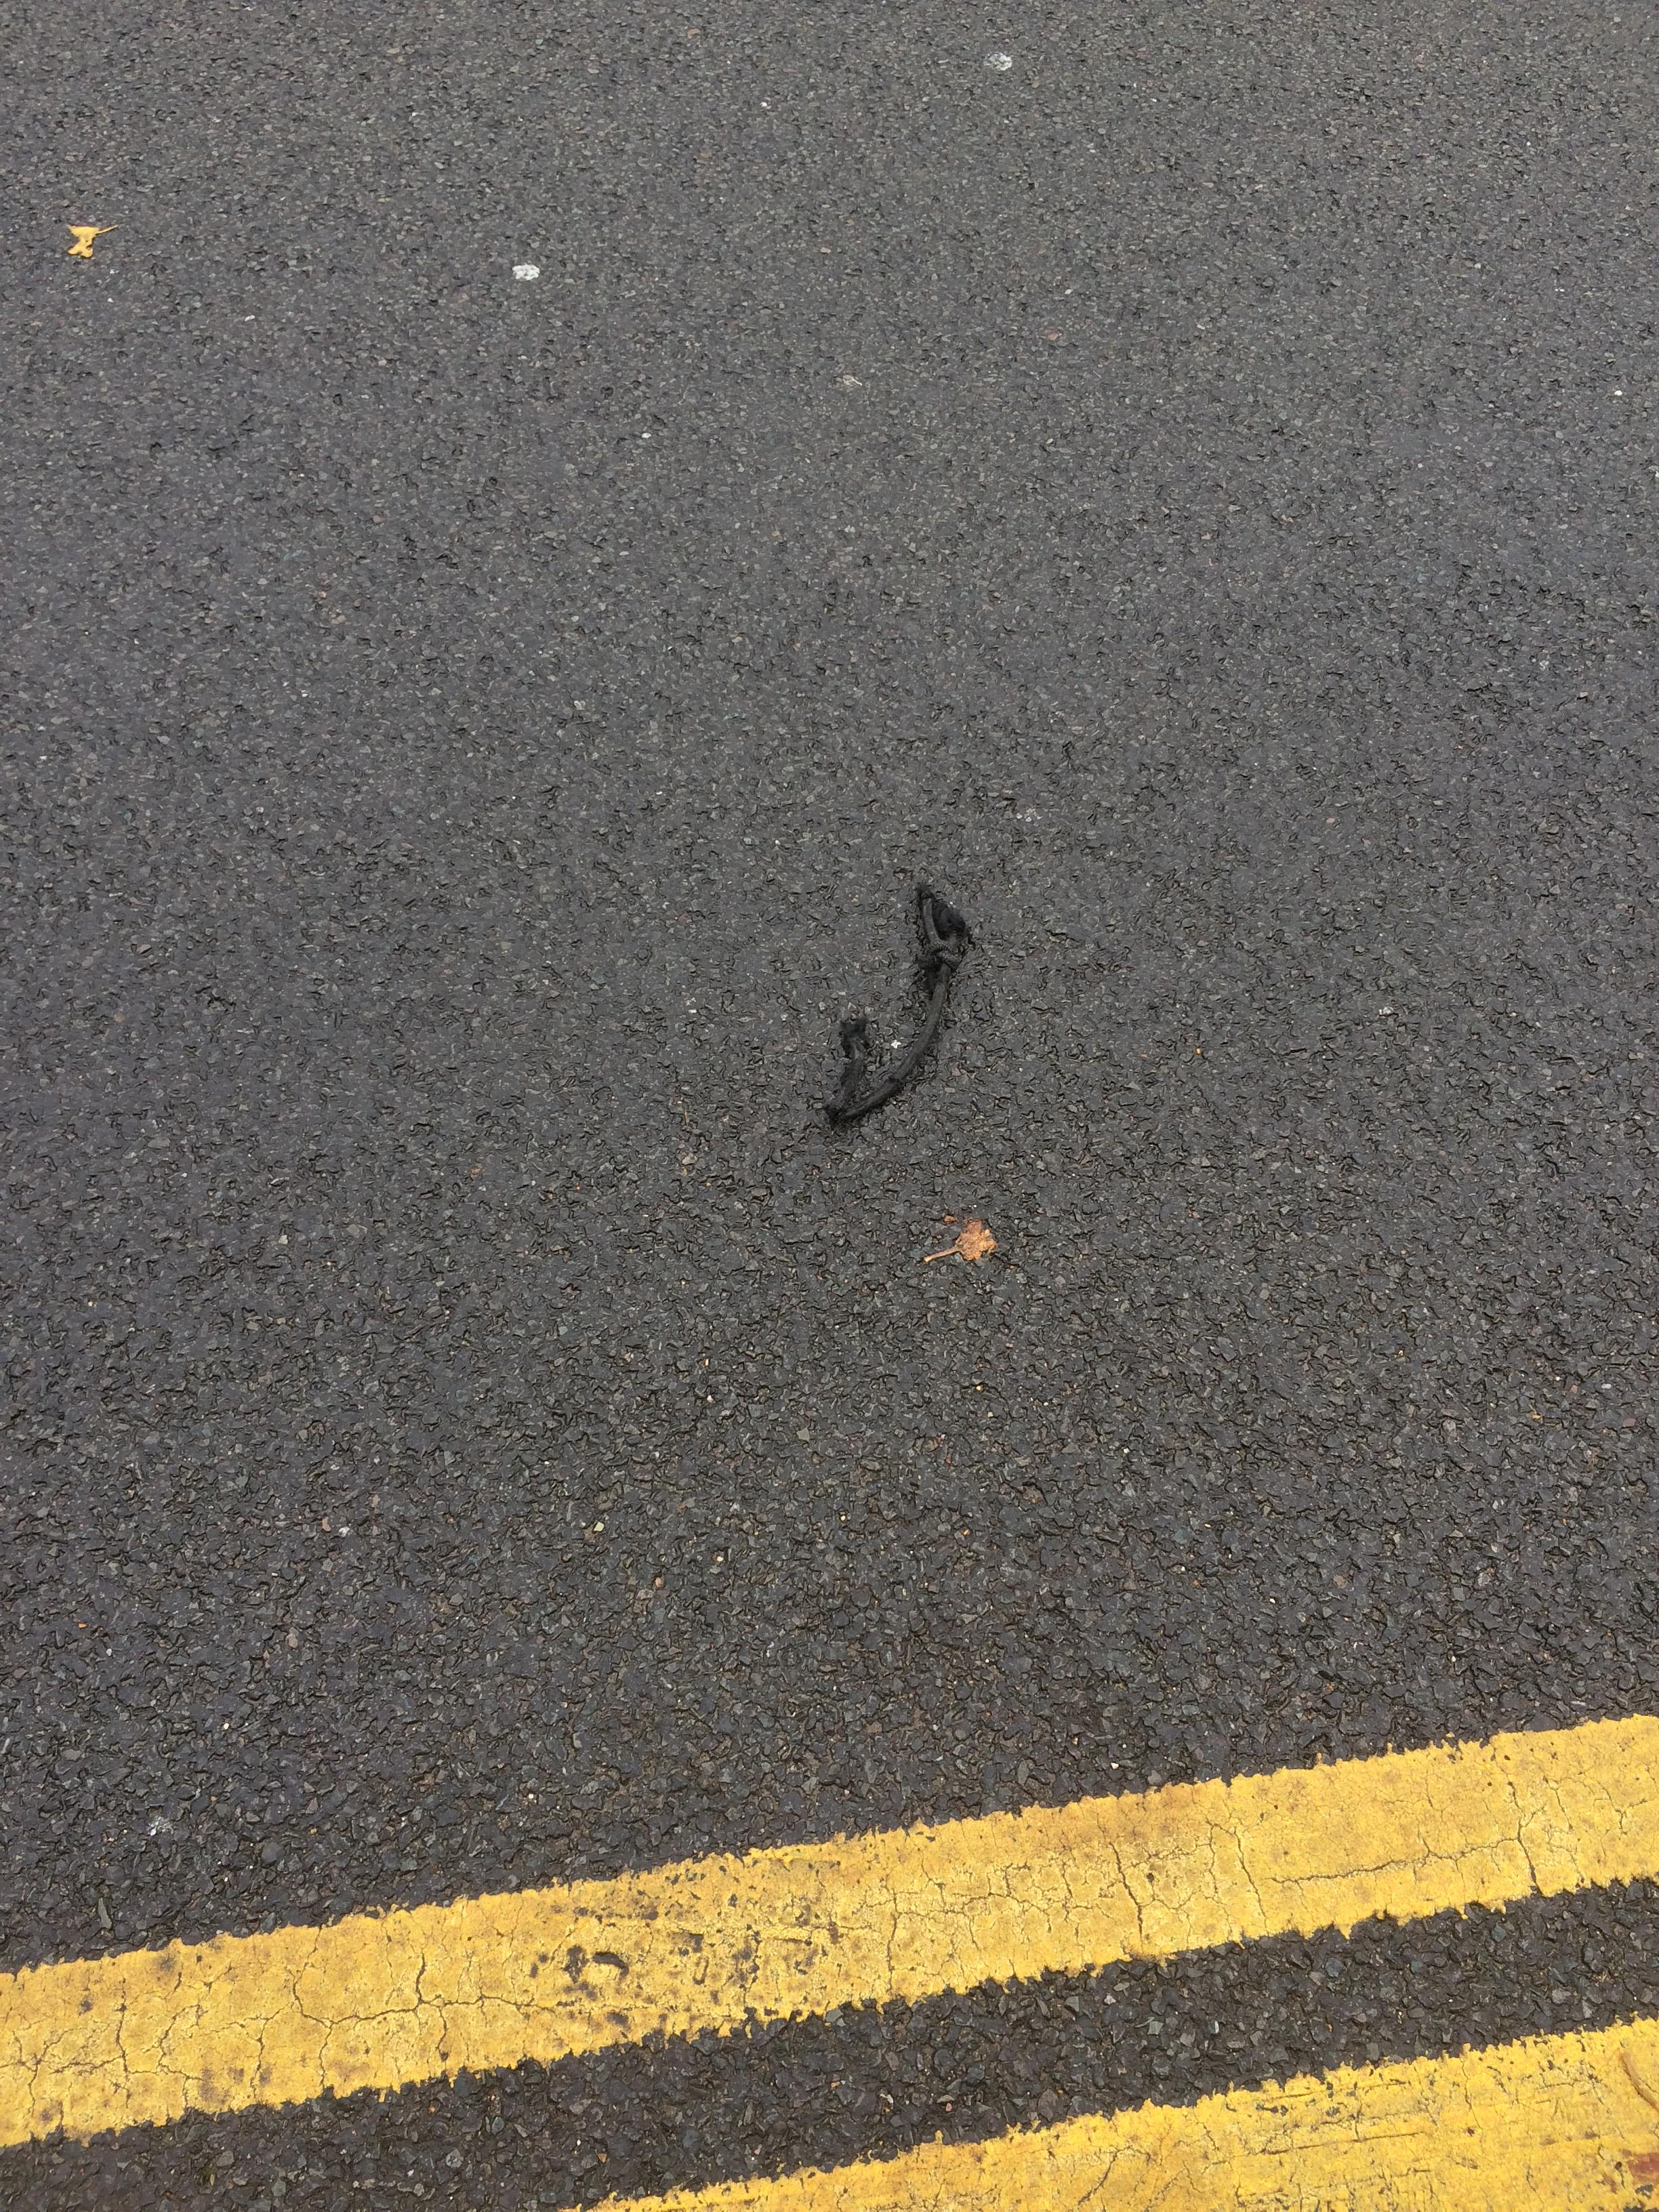Trash: (833, 885, 972, 1122)
